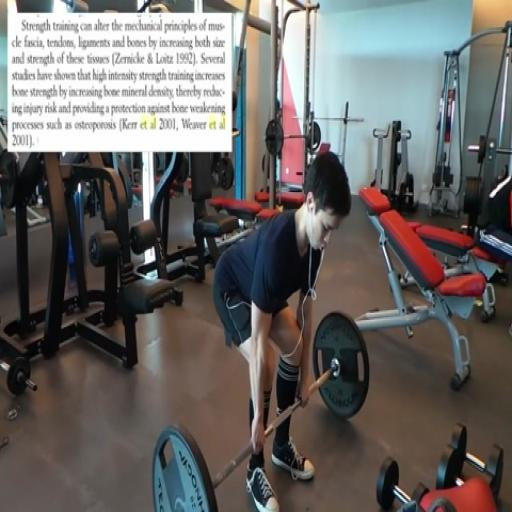exercise: (210, 150, 354, 510)
